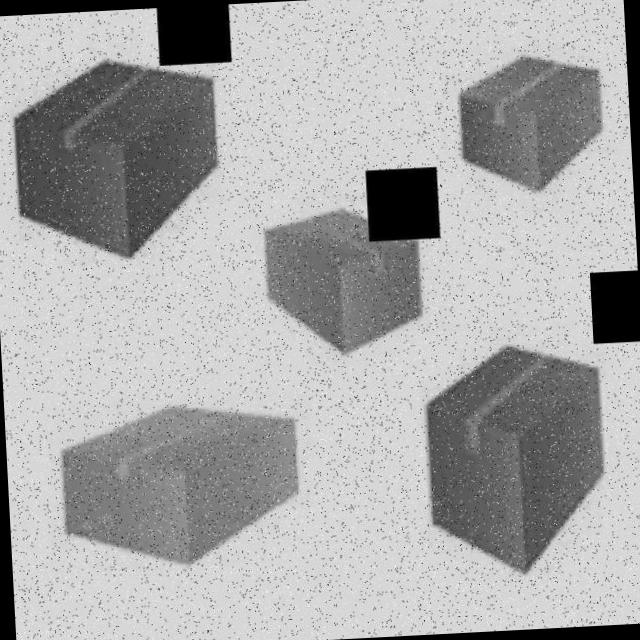box: (419, 341, 611, 584), (7, 54, 230, 262), (59, 396, 300, 574), (256, 204, 423, 358), (454, 50, 609, 199)
